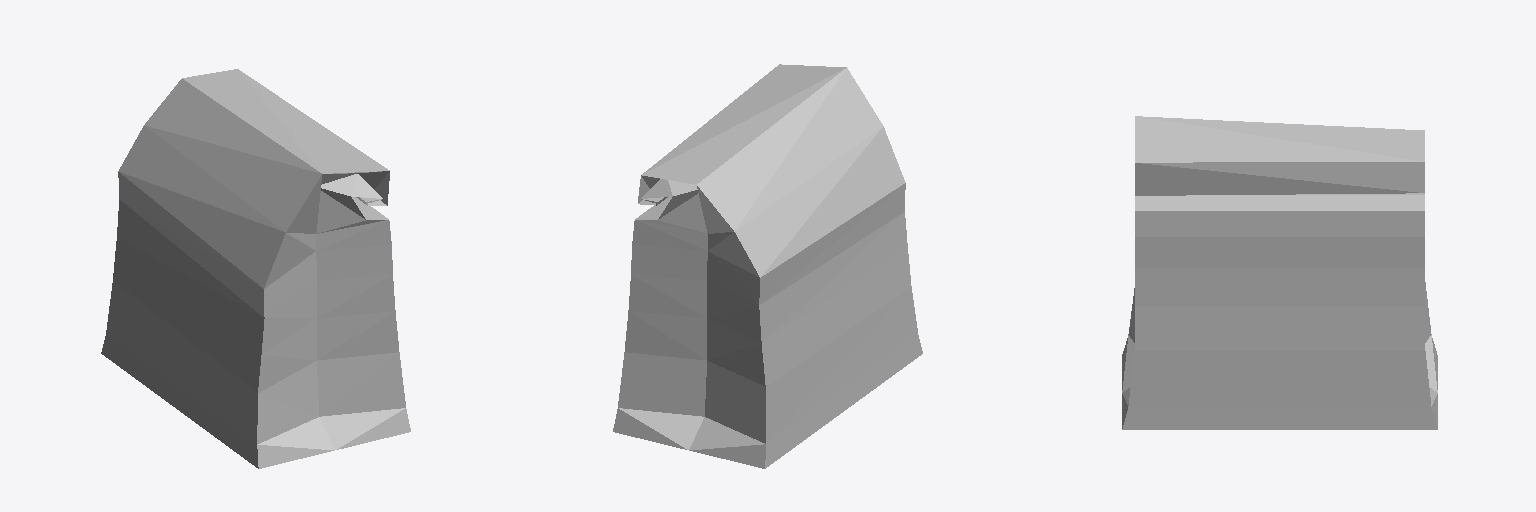
File: dogfood.obj
The picture shows the model from 3 angles: view 1: azimuth 30°, elevation 25°; view 2: azimuth 150°, elevation 25°; view 3: azimuth 270°, elevation 25°; orthographic projection.
Visible parts, largest first — view 1: pCube1; view 2: pCube1; view 3: pCube1.
Boxes of the visible parts, x1=… form: pCube1: x1=101, y1=69, x2=410, y2=468; pCube1: x1=613, y1=64, x2=922, y2=468; pCube1: x1=1122, y1=116, x2=1437, y2=429.
Bounding box in the file's own units: 2.42 × 4.15 × 4.34.